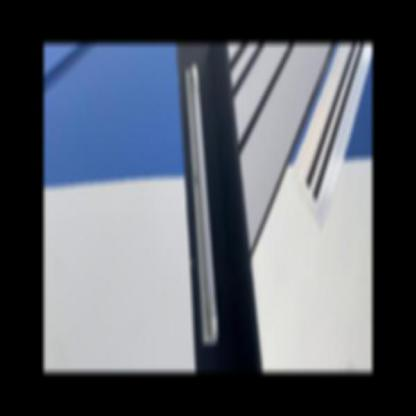light_off: (178, 57, 226, 349)
